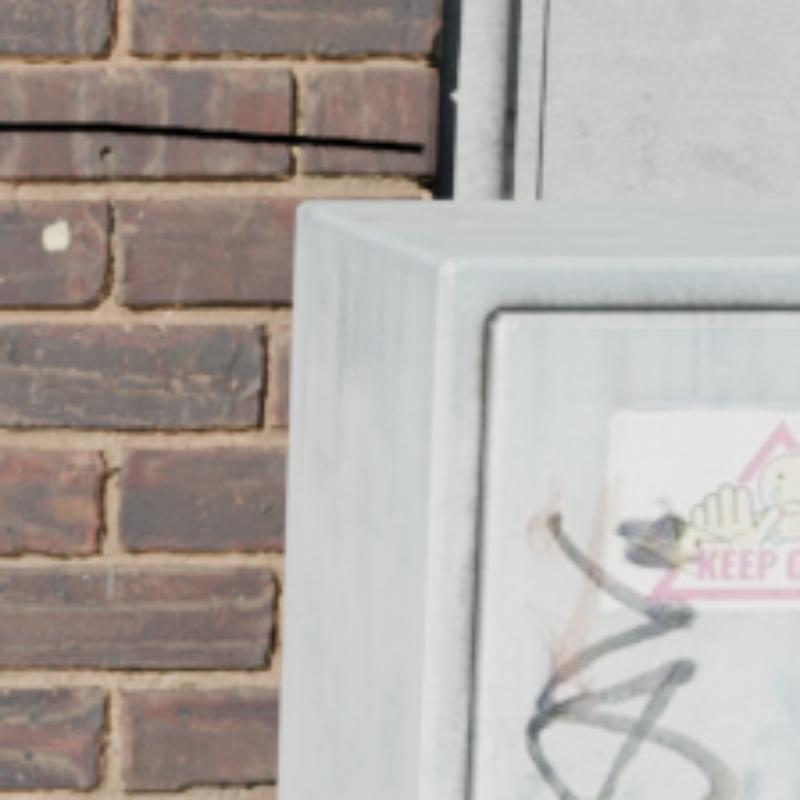pothole: (0, 121, 421, 154)
